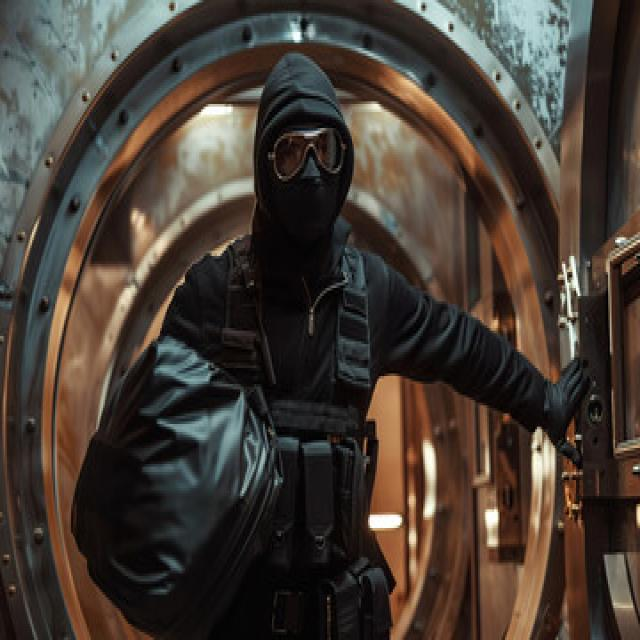39: (258, 428, 394, 640)
69: (365, 374, 562, 639), (467, 413, 552, 640)
handguns: (12, 34, 588, 640)
